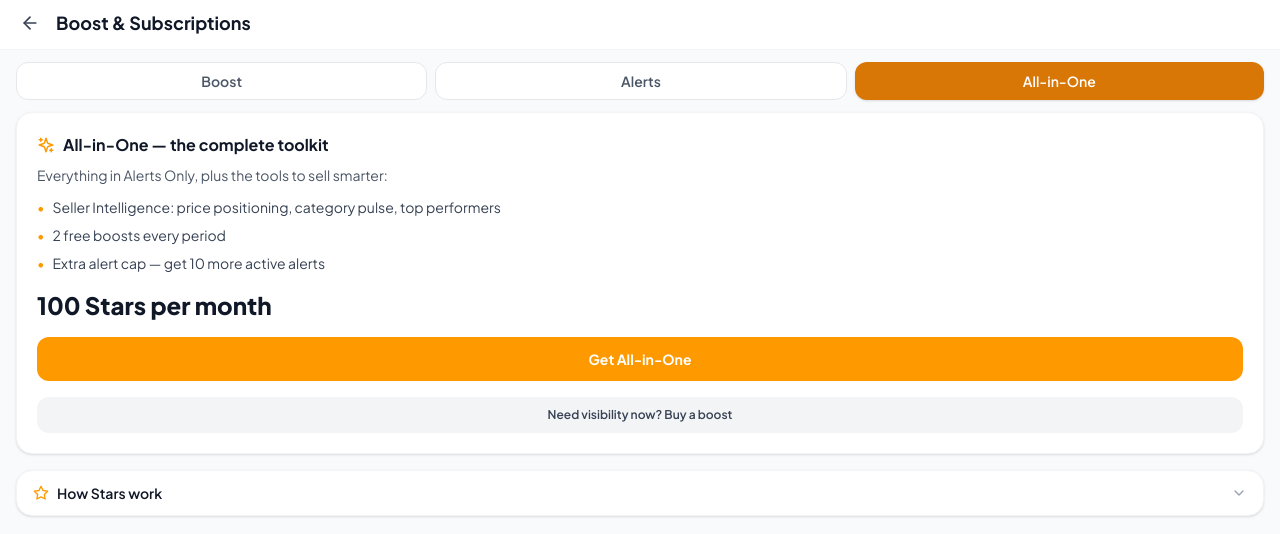
Scenario: MonetizationHub - cross-sell one-liners (Rule 10.2.7) › all-in-one tab cross-sells boosts and navigates to the boost tab
Click the button "Need visibility now? Buy a boost". click: (640, 415)
box: [37,397,1243,433]
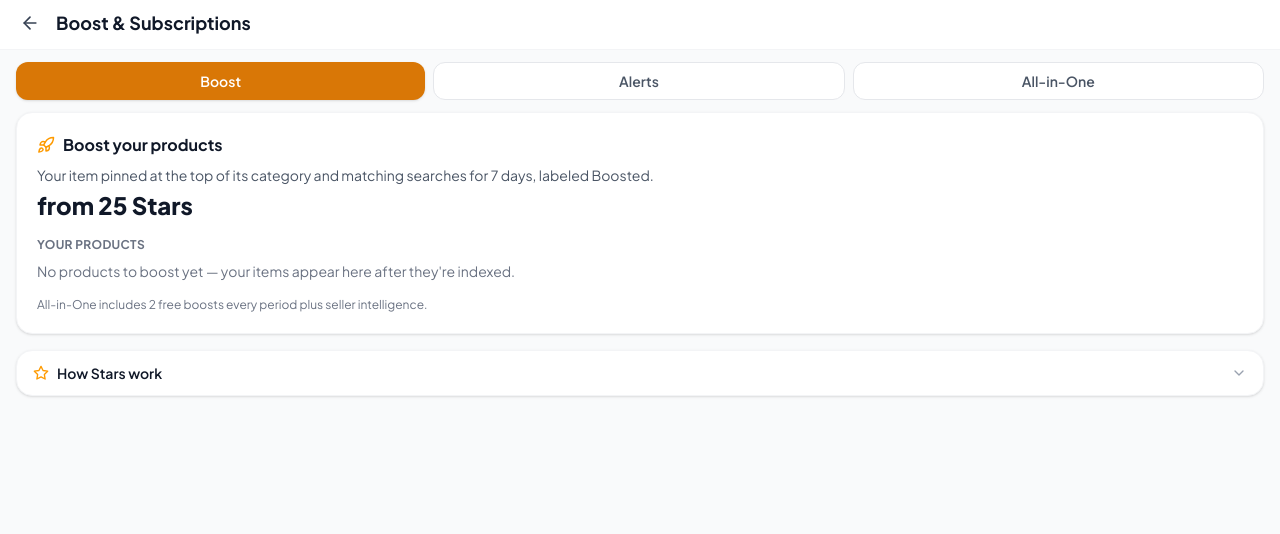
Expected: the element with test id "hub-tab-boost" is shown, [16,112,1264,334]
